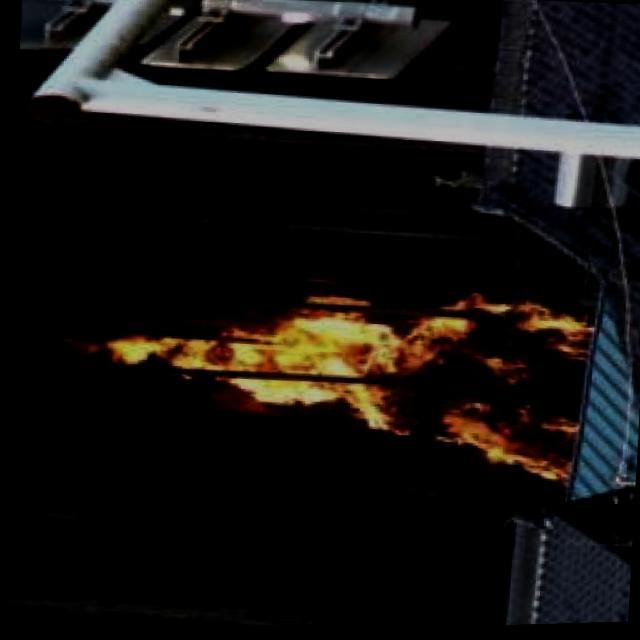Fire: (54, 262, 601, 495)
